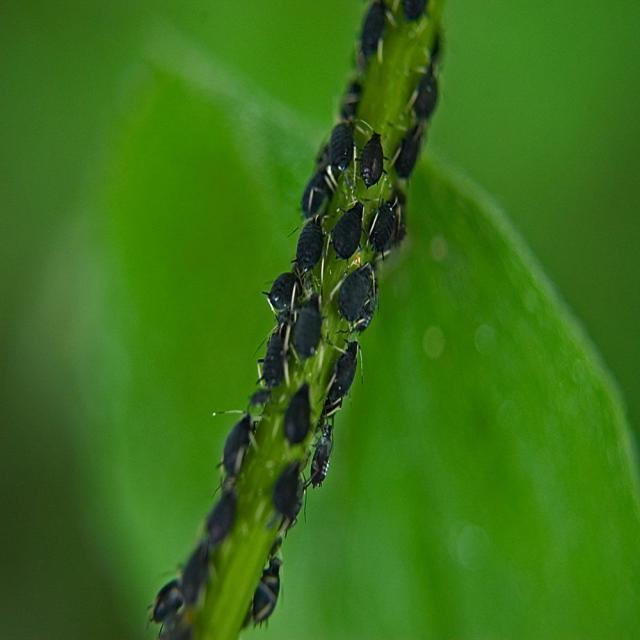aphid: (276, 374, 322, 459), (327, 337, 374, 420), (286, 210, 334, 288), (300, 428, 346, 504), (337, 266, 388, 334), (325, 106, 367, 188), (212, 412, 261, 481), (326, 197, 378, 262), (352, 116, 395, 189), (262, 259, 299, 325), (247, 559, 281, 630), (271, 460, 305, 530), (258, 326, 290, 392), (300, 164, 335, 224), (290, 302, 324, 362), (410, 65, 439, 122)
